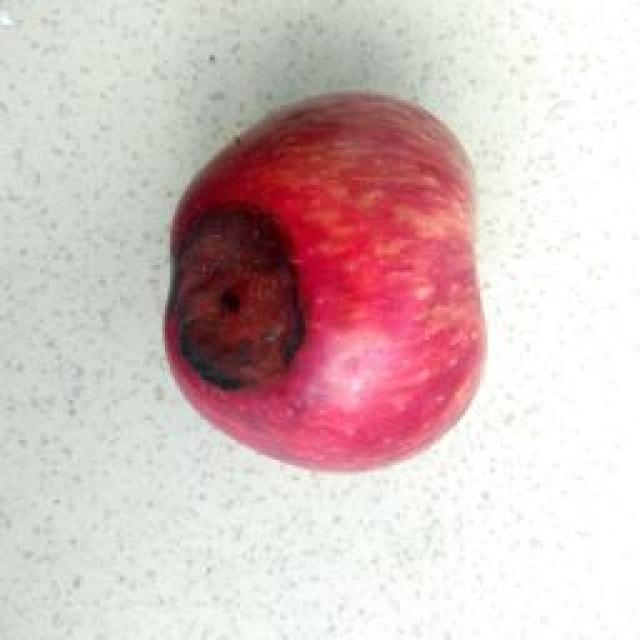Bad_Apple: (165, 94, 485, 469)
